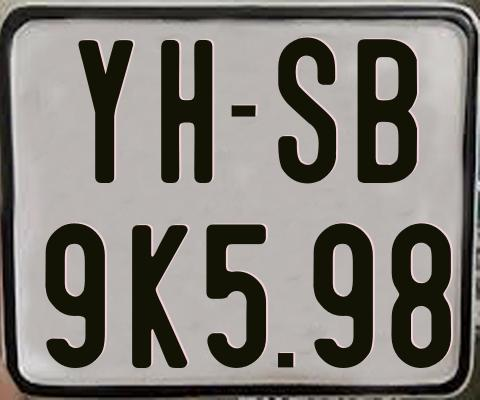5: (204, 223, 269, 369)
8: (388, 220, 454, 368)
9: (310, 221, 375, 372), (44, 222, 110, 367)
B: (357, 39, 423, 183)
H: (160, 40, 215, 186)
K: (132, 224, 192, 370)
S: (276, 34, 339, 185)
Y: (75, 39, 131, 185)
